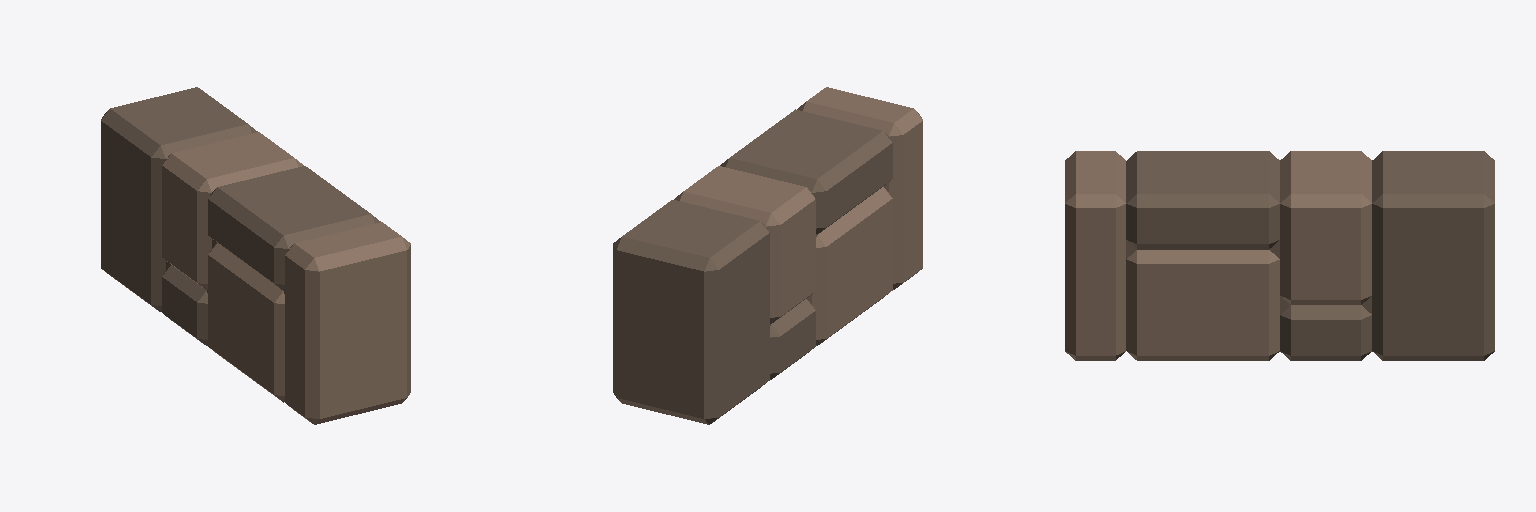
Rendered from Stone_Curb_2.obj.
3 views of the same model, side by side, from view 1: azimuth 30°, elevation 25°; view 2: azimuth 150°, elevation 25°; view 3: azimuth 270°, elevation 25° (orthographic).
Visible parts, largest first — view 1: object1; view 2: object1; view 3: object1.
Part boxes in pixels (bbox=[...]): object1: bbox=[101, 87, 410, 424]; object1: bbox=[613, 87, 922, 424]; object1: bbox=[1065, 151, 1494, 360].
Bounding box in the file's own units: 0.2 × 0.3 × 0.7.